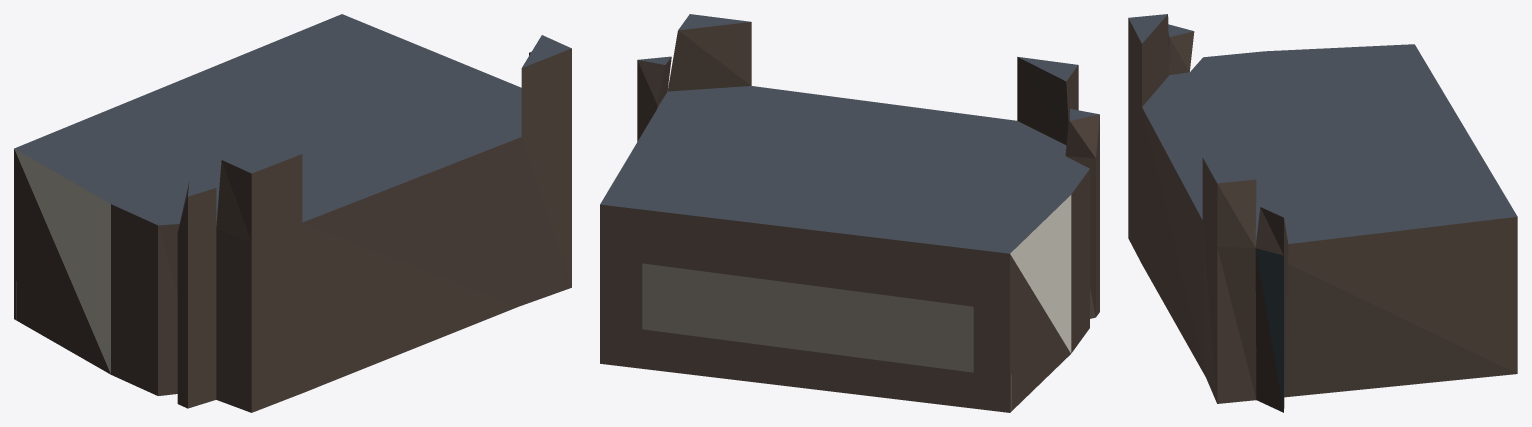
Rendered from keith-haring-mural.lod2.glb.
3 views of the same model, side by side, from view 1: azimuth 30°, elevation 25°; view 2: azimuth 150°, elevation 25°; view 3: azimuth 270°, elevation 25° (orthographic). The views are drawn at different scales.
Visible parts, largest first — view 1: lod2; view 2: lod2; view 3: lod2.
Part boxes in pixels (x1=…): lod2: x1=14, y1=14, x2=571, y2=412; lod2: x1=600, y1=14, x2=1099, y2=412; lod2: x1=1128, y1=14, x2=1517, y2=412.
Size of the model in its own units: 50.18 by 24.4 by 39.04.
